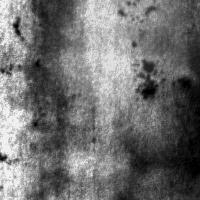patches: (49, 0, 197, 121), (96, 78, 200, 200), (105, 101, 200, 200), (21, 1, 82, 154), (123, 101, 200, 185), (130, 21, 200, 63), (23, 151, 71, 200), (136, 58, 160, 99), (6, 12, 27, 43), (172, 71, 194, 97)
